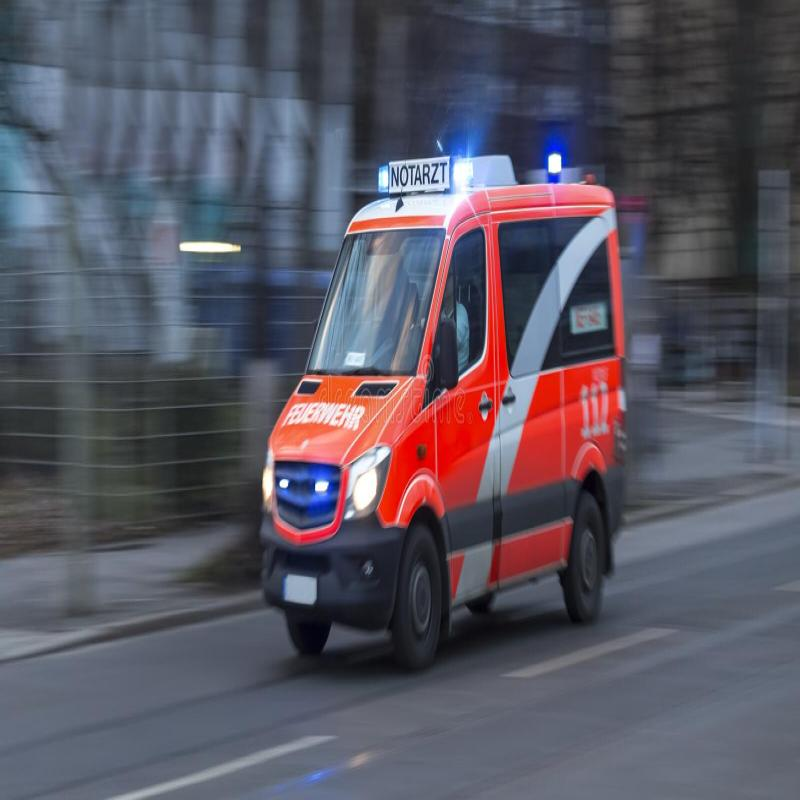ambulance: (224, 135, 642, 668)
